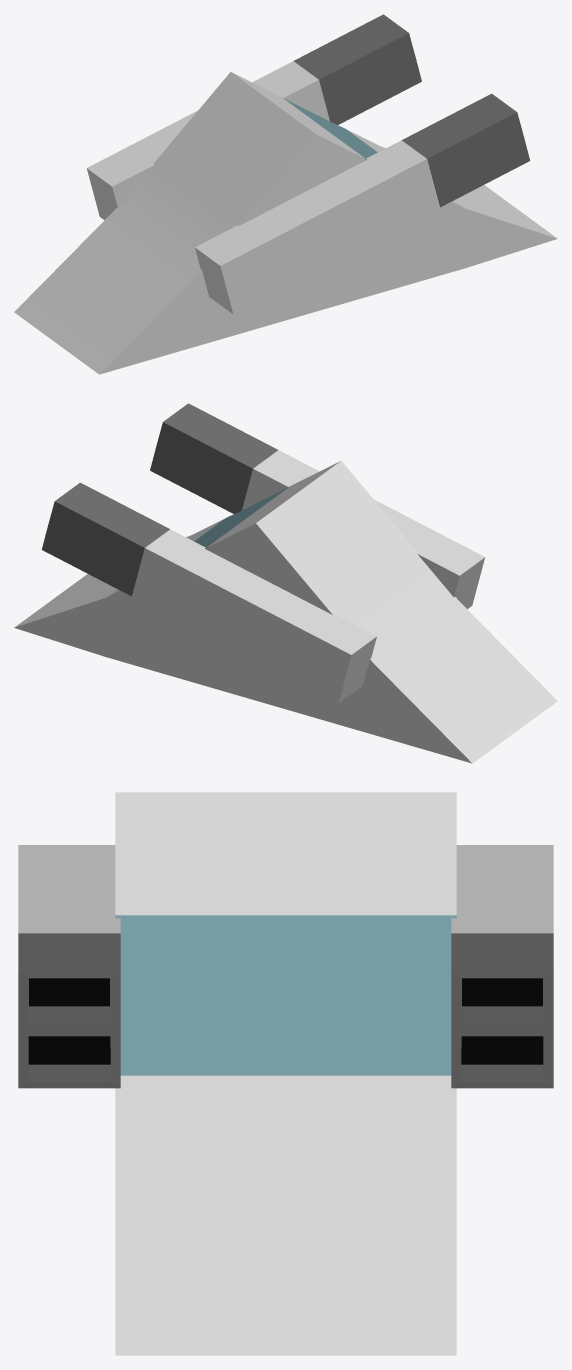
Rendered from AlienTankV2.fbx.
3 views of the same model, one above another, from view 1: azimuth 30°, elevation 25°; view 2: azimuth 150°, elevation 25°; view 3: azimuth 270°, elevation 25° (orthographic). The views are drawn at different scales.
Parts seen in each view (by area): view 1: Body, CannonBody (×2), BarrelCasing (×2), Glass; view 2: Body, CannonBody (×2), BarrelCasing (×2), Glass; view 3: Body, Glass, BarrelCasing (×2), CannonBody (×2), Blackinside (×2).
Part boxes in pixels (<box>): Body: <box>14,72,557,374</box>; CannonBody (×2): <box>86,61,439,314</box>; BarrelCasing (×2): <box>294,14,530,207</box>; Glass: <box>281,97,377,160</box>; Body: <box>14,461,557,763</box>; CannonBody (×2): <box>132,450,485,703</box>; BarrelCasing (×2): <box>41,403,277,596</box>; Glass: <box>194,486,289,549</box>; Body: <box>115,792,456,1355</box>; Glass: <box>115,915,456,1075</box>; BarrelCasing (×2): <box>18,933,553,1088</box>; CannonBody (×2): <box>18,845,553,933</box>; Blackinside (×2): <box>28,978,543,1064</box>.
Bounding box in the file's own units: 26.68 × 10.43 × 13.48.
